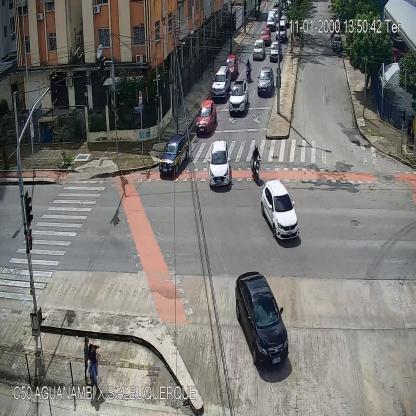car: (235, 272, 290, 364), (263, 180, 300, 242), (159, 136, 190, 172), (208, 140, 230, 190), (228, 78, 249, 115), (212, 66, 230, 101), (197, 100, 216, 132), (257, 67, 274, 92), (274, 20, 287, 43), (226, 53, 239, 75), (270, 39, 282, 62), (261, 27, 271, 47), (254, 41, 264, 60), (332, 35, 342, 52), (266, 15, 274, 30)
motorbike: (250, 145, 260, 179), (245, 57, 252, 85), (336, 41, 339, 53)
person: (88, 342, 97, 391), (83, 336, 90, 382), (210, 50, 215, 72), (199, 60, 202, 78)
